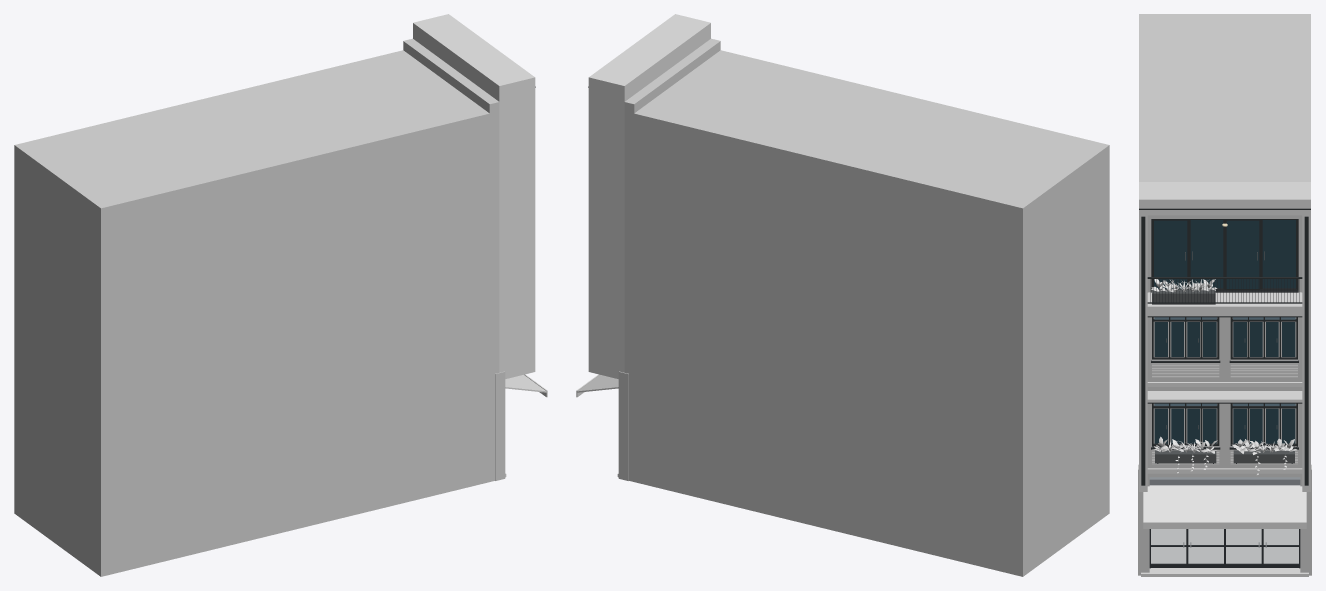
Rendered from OW_Mau_NhaPho_6_0_3.fbx.
The picture shows the model from 3 angles, left to right: view 1: azimuth 30°, elevation 25°; view 2: azimuth 150°, elevation 25°; view 3: azimuth 270°, elevation 25°; orthographic projection.
Visible parts, largest first — view 1: OW_NhaPho_9030; view 2: OW_NhaPho_9030; view 3: OW_NhaPho_9030, OW_MatTienKinh.
Part boxes in pixels (box(x1,y1,x2,y2)): OW_NhaPho_9030: box(14, 14, 547, 576); OW_NhaPho_9030: box(576, 14, 1109, 576); OW_NhaPho_9030: box(1138, 14, 1311, 576); OW_MatTienKinh: box(1149, 477, 1300, 568).
Size of the model in its own units: 17.77 by 14.9 by 6.
